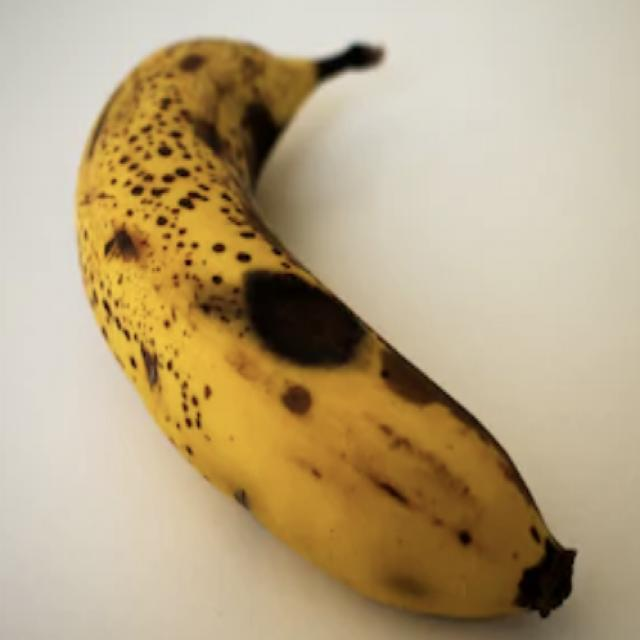rotten-banana: (73, 43, 569, 614)
